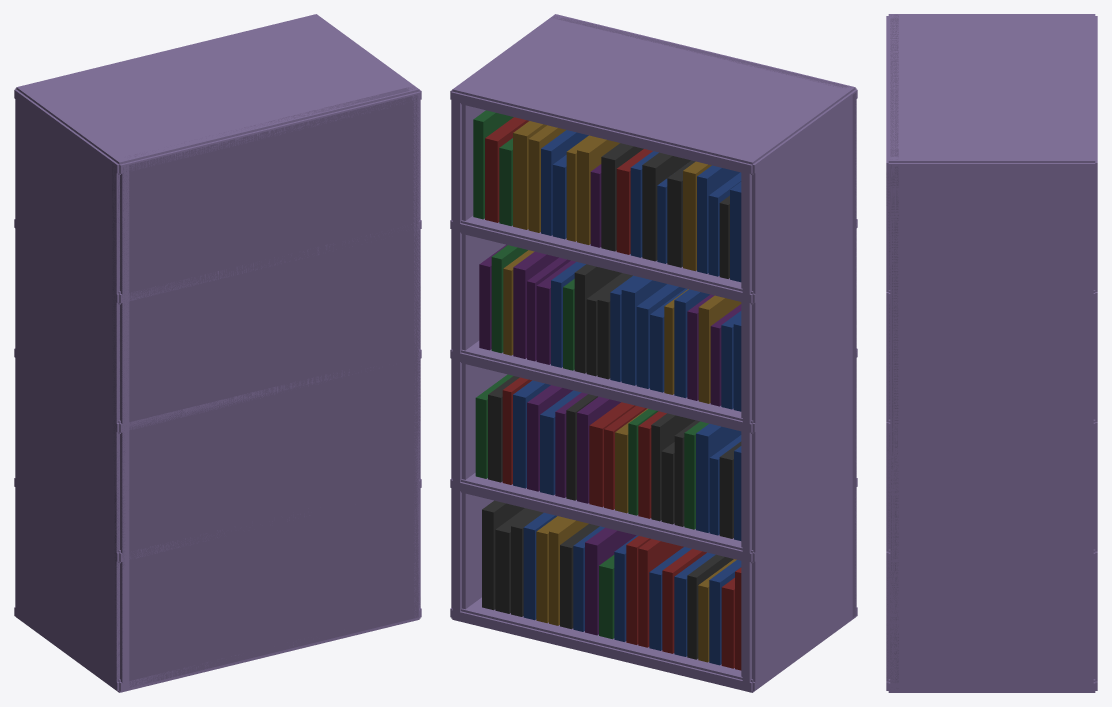
File: ebonwood_bookcase_v0.glb
The picture shows the model from 3 angles, left to right: view 1: azimuth 30°, elevation 25°; view 2: azimuth 150°, elevation 25°; view 3: azimuth 270°, elevation 25°; orthographic projection.
Visible parts, largest first — view 1: ebonwood_bookcase_v0; view 2: ebonwood_bookcase_v0; view 3: ebonwood_bookcase_v0.
Part boxes in pixels (bbox=[...]): ebonwood_bookcase_v0: bbox=[14, 14, 421, 692]; ebonwood_bookcase_v0: bbox=[450, 14, 857, 692]; ebonwood_bookcase_v0: bbox=[886, 14, 1097, 692].
Bounding box in the file's own units: 1.5 × 2.5 × 0.9.
